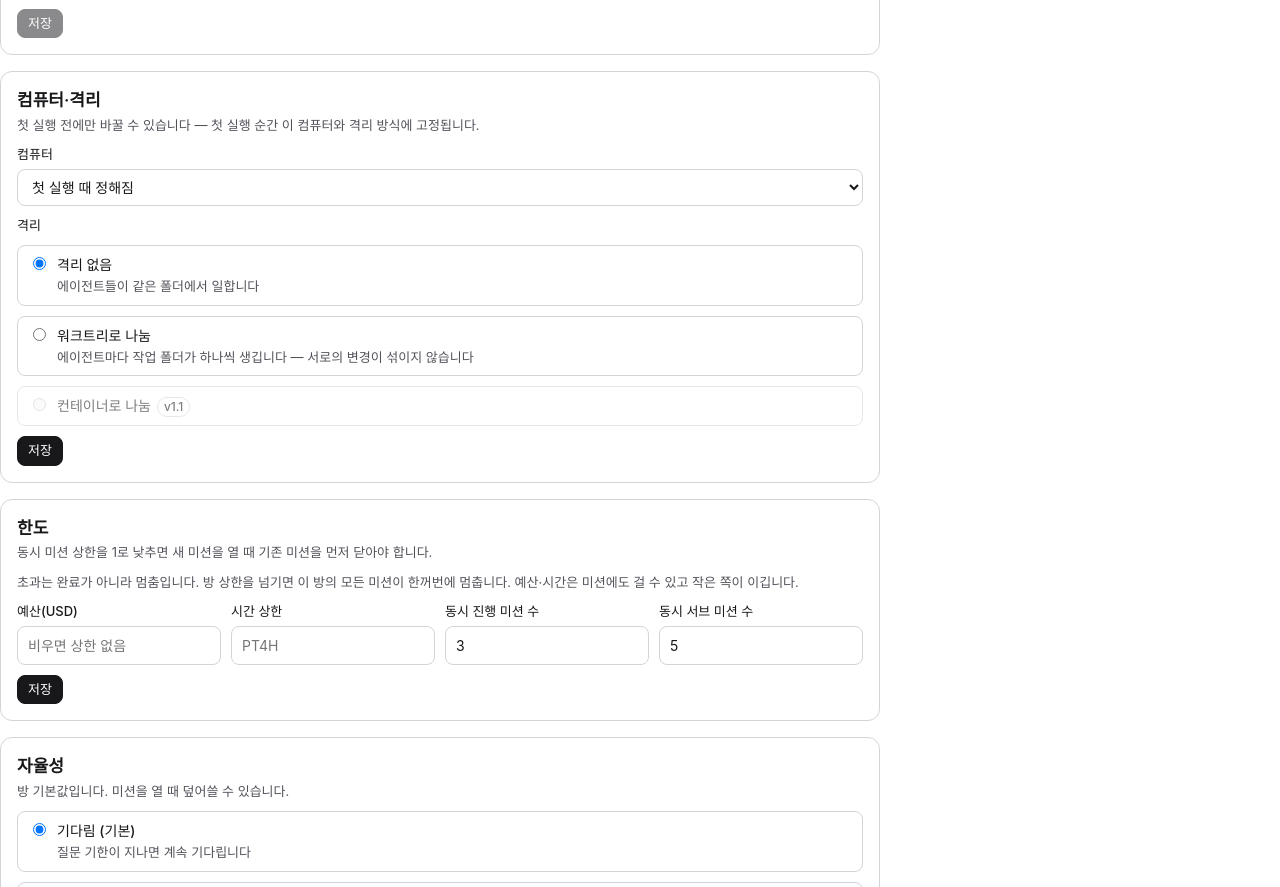
S20 방 설정 › 저장 중에 첫 실행이 났으면(409 runtime_pinned) 서버 문장 + 그 자리에서 읽기 전용
(page scrolled)
Expected: the dropdown with test id "rd-settings-runtime" is shown, [17,168,863,206]
What coordinates should you click on to do the following:
click the button with test id "rd-settings-save-runtime"
I would click on:
 (40, 451)
Its box is [17,436,63,466].
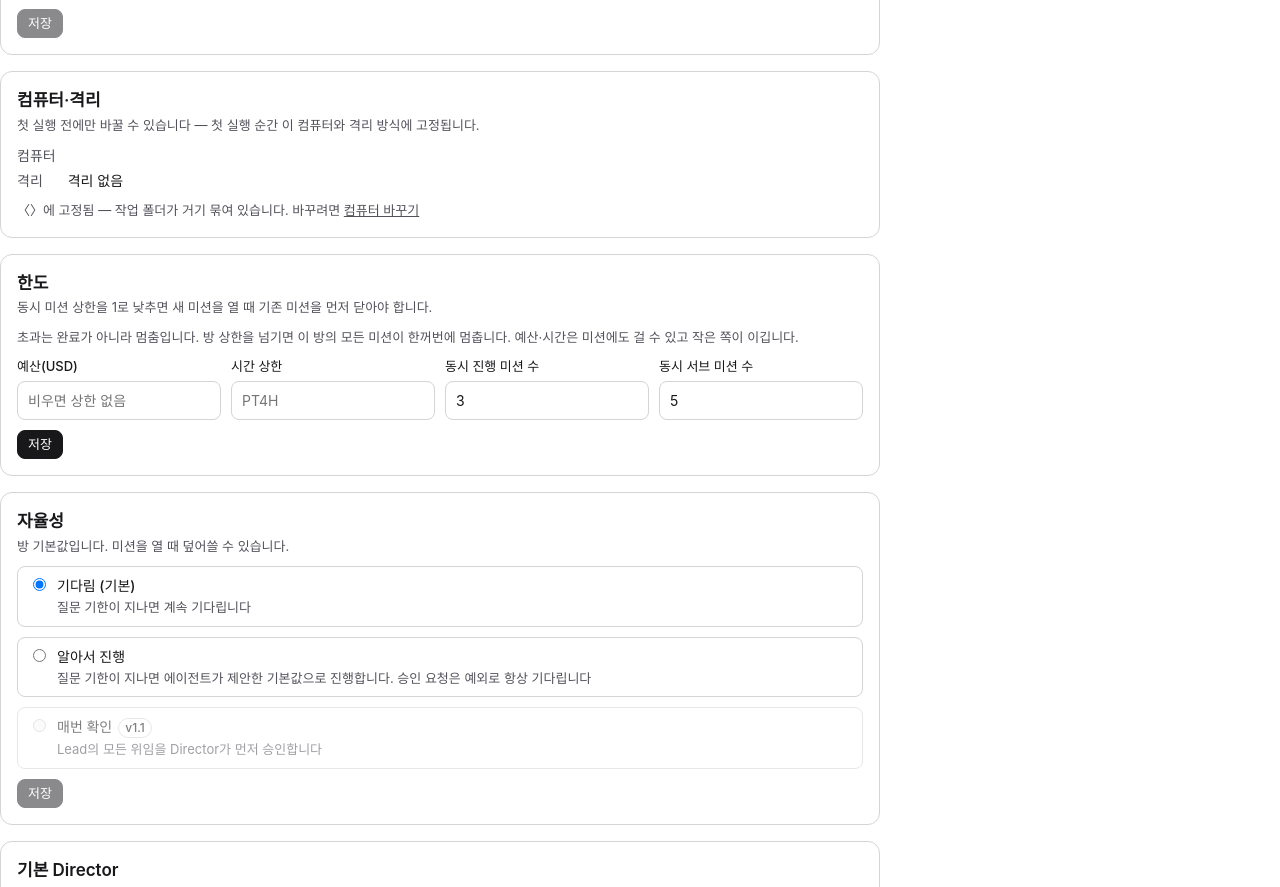
Expected: the element with test id "rd-settings-pinned" is shown, [17,202,419,218]
